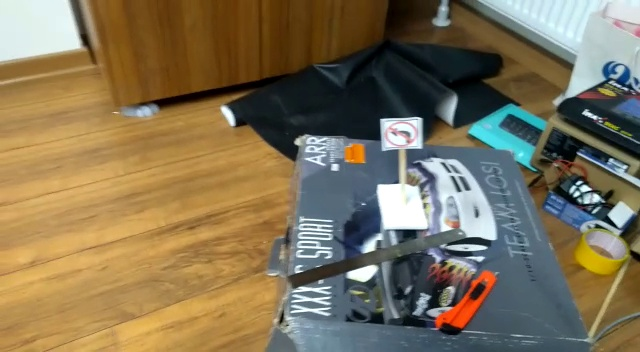sola_donulmez: (384, 119, 421, 147)
